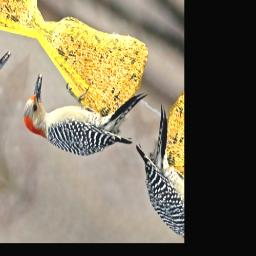Woodpecker: (7, 23, 154, 202)
